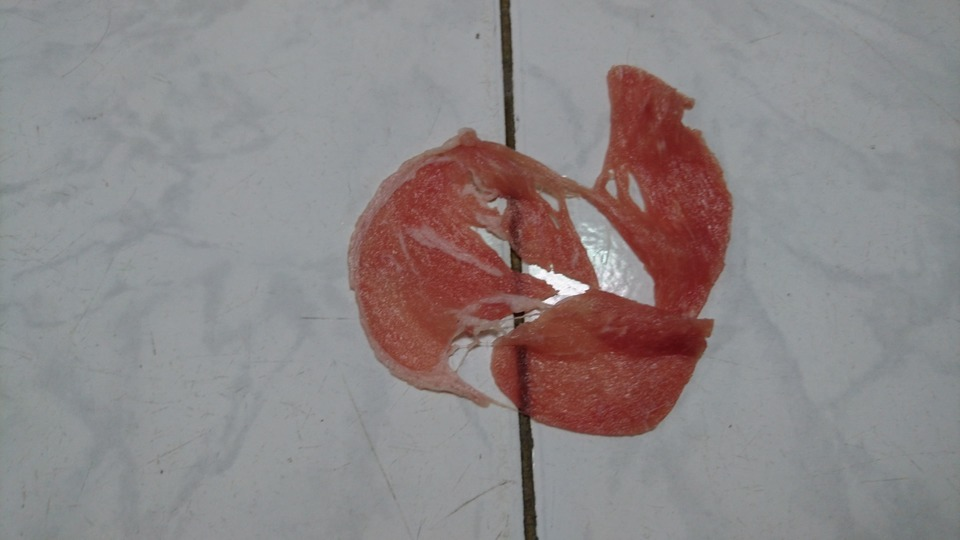restructured meat: (349, 60, 732, 441)
